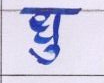u_matra: (30, 45, 62, 65)
